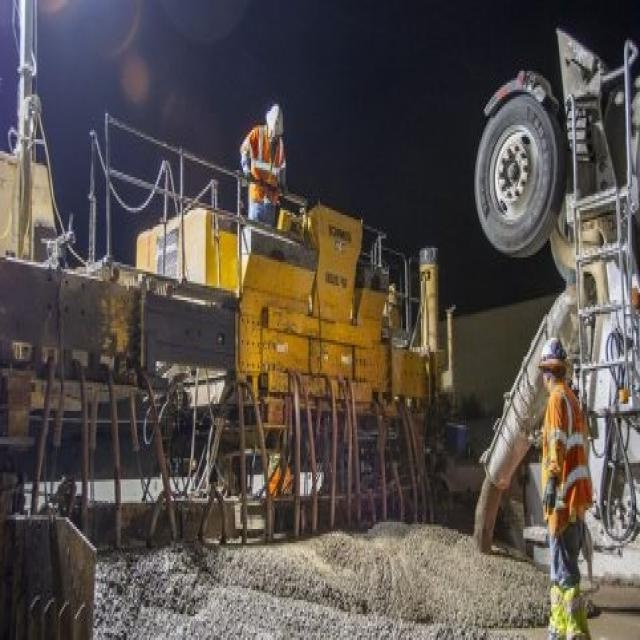Con_Chaleco: (542, 384, 587, 520), (250, 131, 282, 201)
